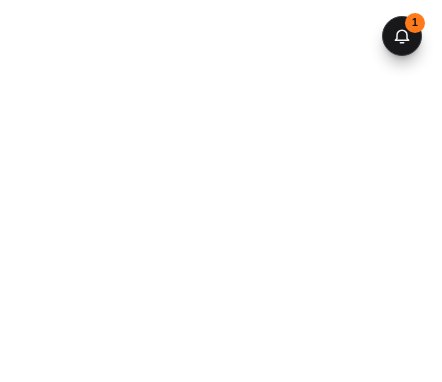
Test: campana de notificaciones › anexa la segunda página con Ver más
The width and height of the screenshot is (442, 382).
Click the button named "Notificaciones,".
click(402, 36)  # box [382,16,422,56]
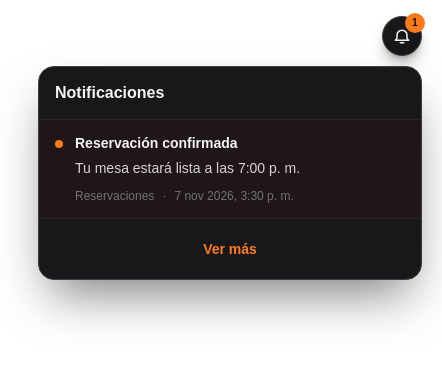
Expected: the text "Reservación confirmada" is shown, [75,135,238,151]
Click the button "Ver más".
click(230, 249)  # box [187,231,273,267]
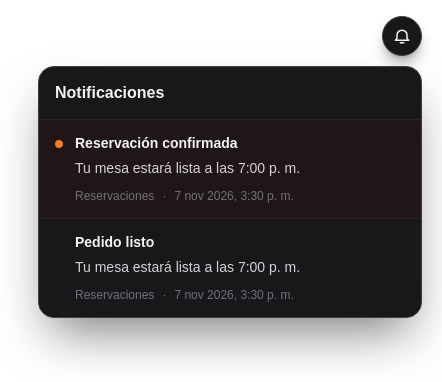
Expected: the text "Reservación confirmada" is shown, [75,135,238,151]
Expected: the text "Pedido listo" is shown, [75,234,154,250]
